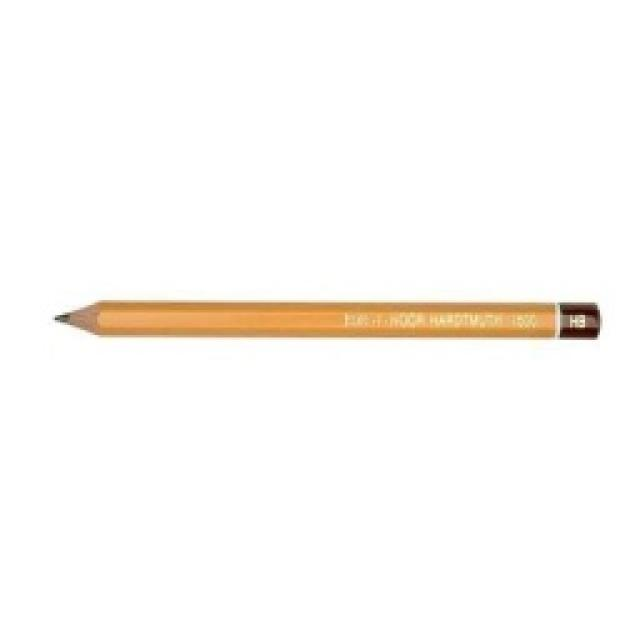pencil: (50, 295, 602, 343)
